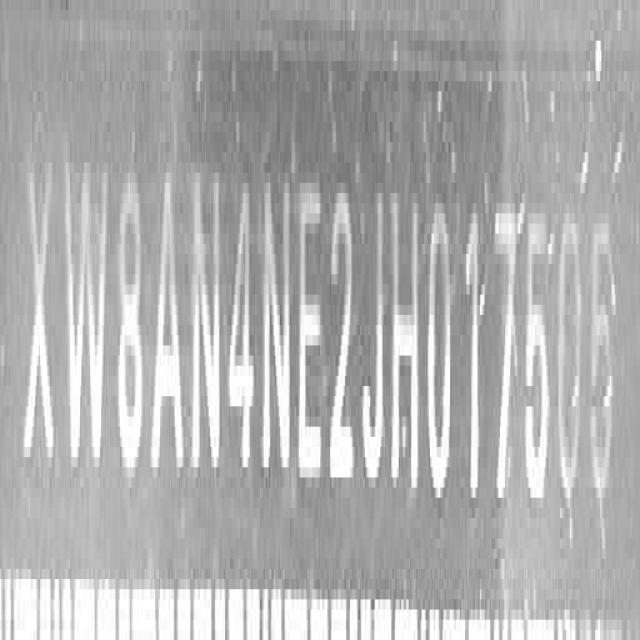0: (428, 197, 454, 510), (558, 199, 581, 523)
1: (464, 200, 483, 512)
2: (330, 184, 356, 499)
4: (229, 173, 255, 489)
5: (590, 214, 618, 527), (526, 203, 552, 511)
7: (494, 181, 518, 523)
8: (118, 167, 144, 488)
A: (150, 163, 184, 491)
E: (298, 178, 324, 492)
H: (392, 190, 422, 502)
J: (364, 188, 387, 496)
N: (192, 167, 225, 487), (261, 174, 293, 491)
W: (64, 154, 109, 492)
X: (24, 151, 55, 489)
